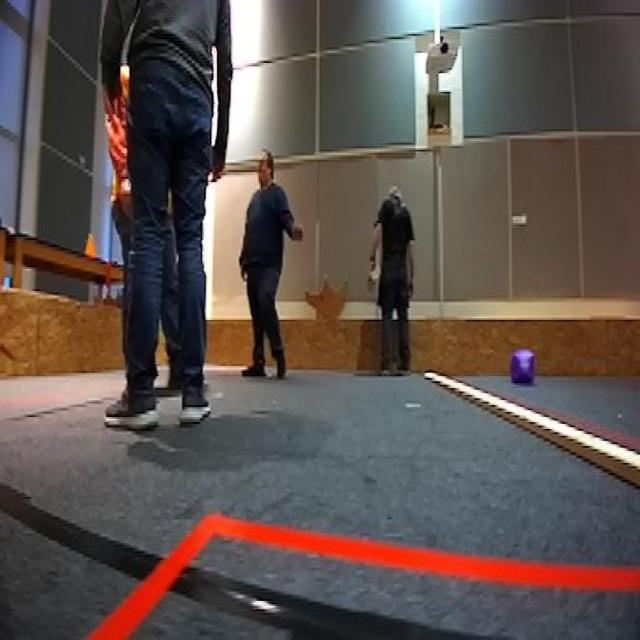frc_cube: (510, 349, 538, 390)
